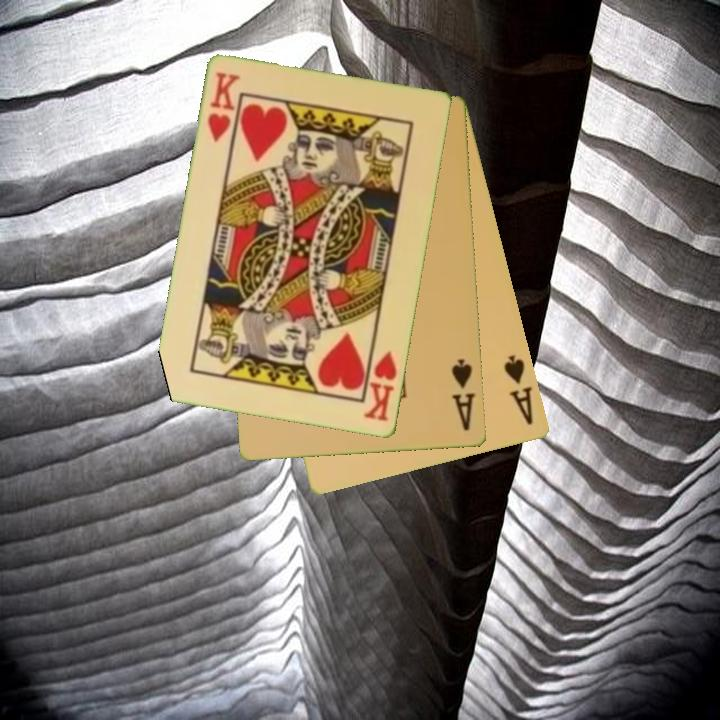As: (501, 351, 537, 428), (448, 356, 479, 434)
Kh: (360, 341, 401, 425), (204, 69, 244, 146)
